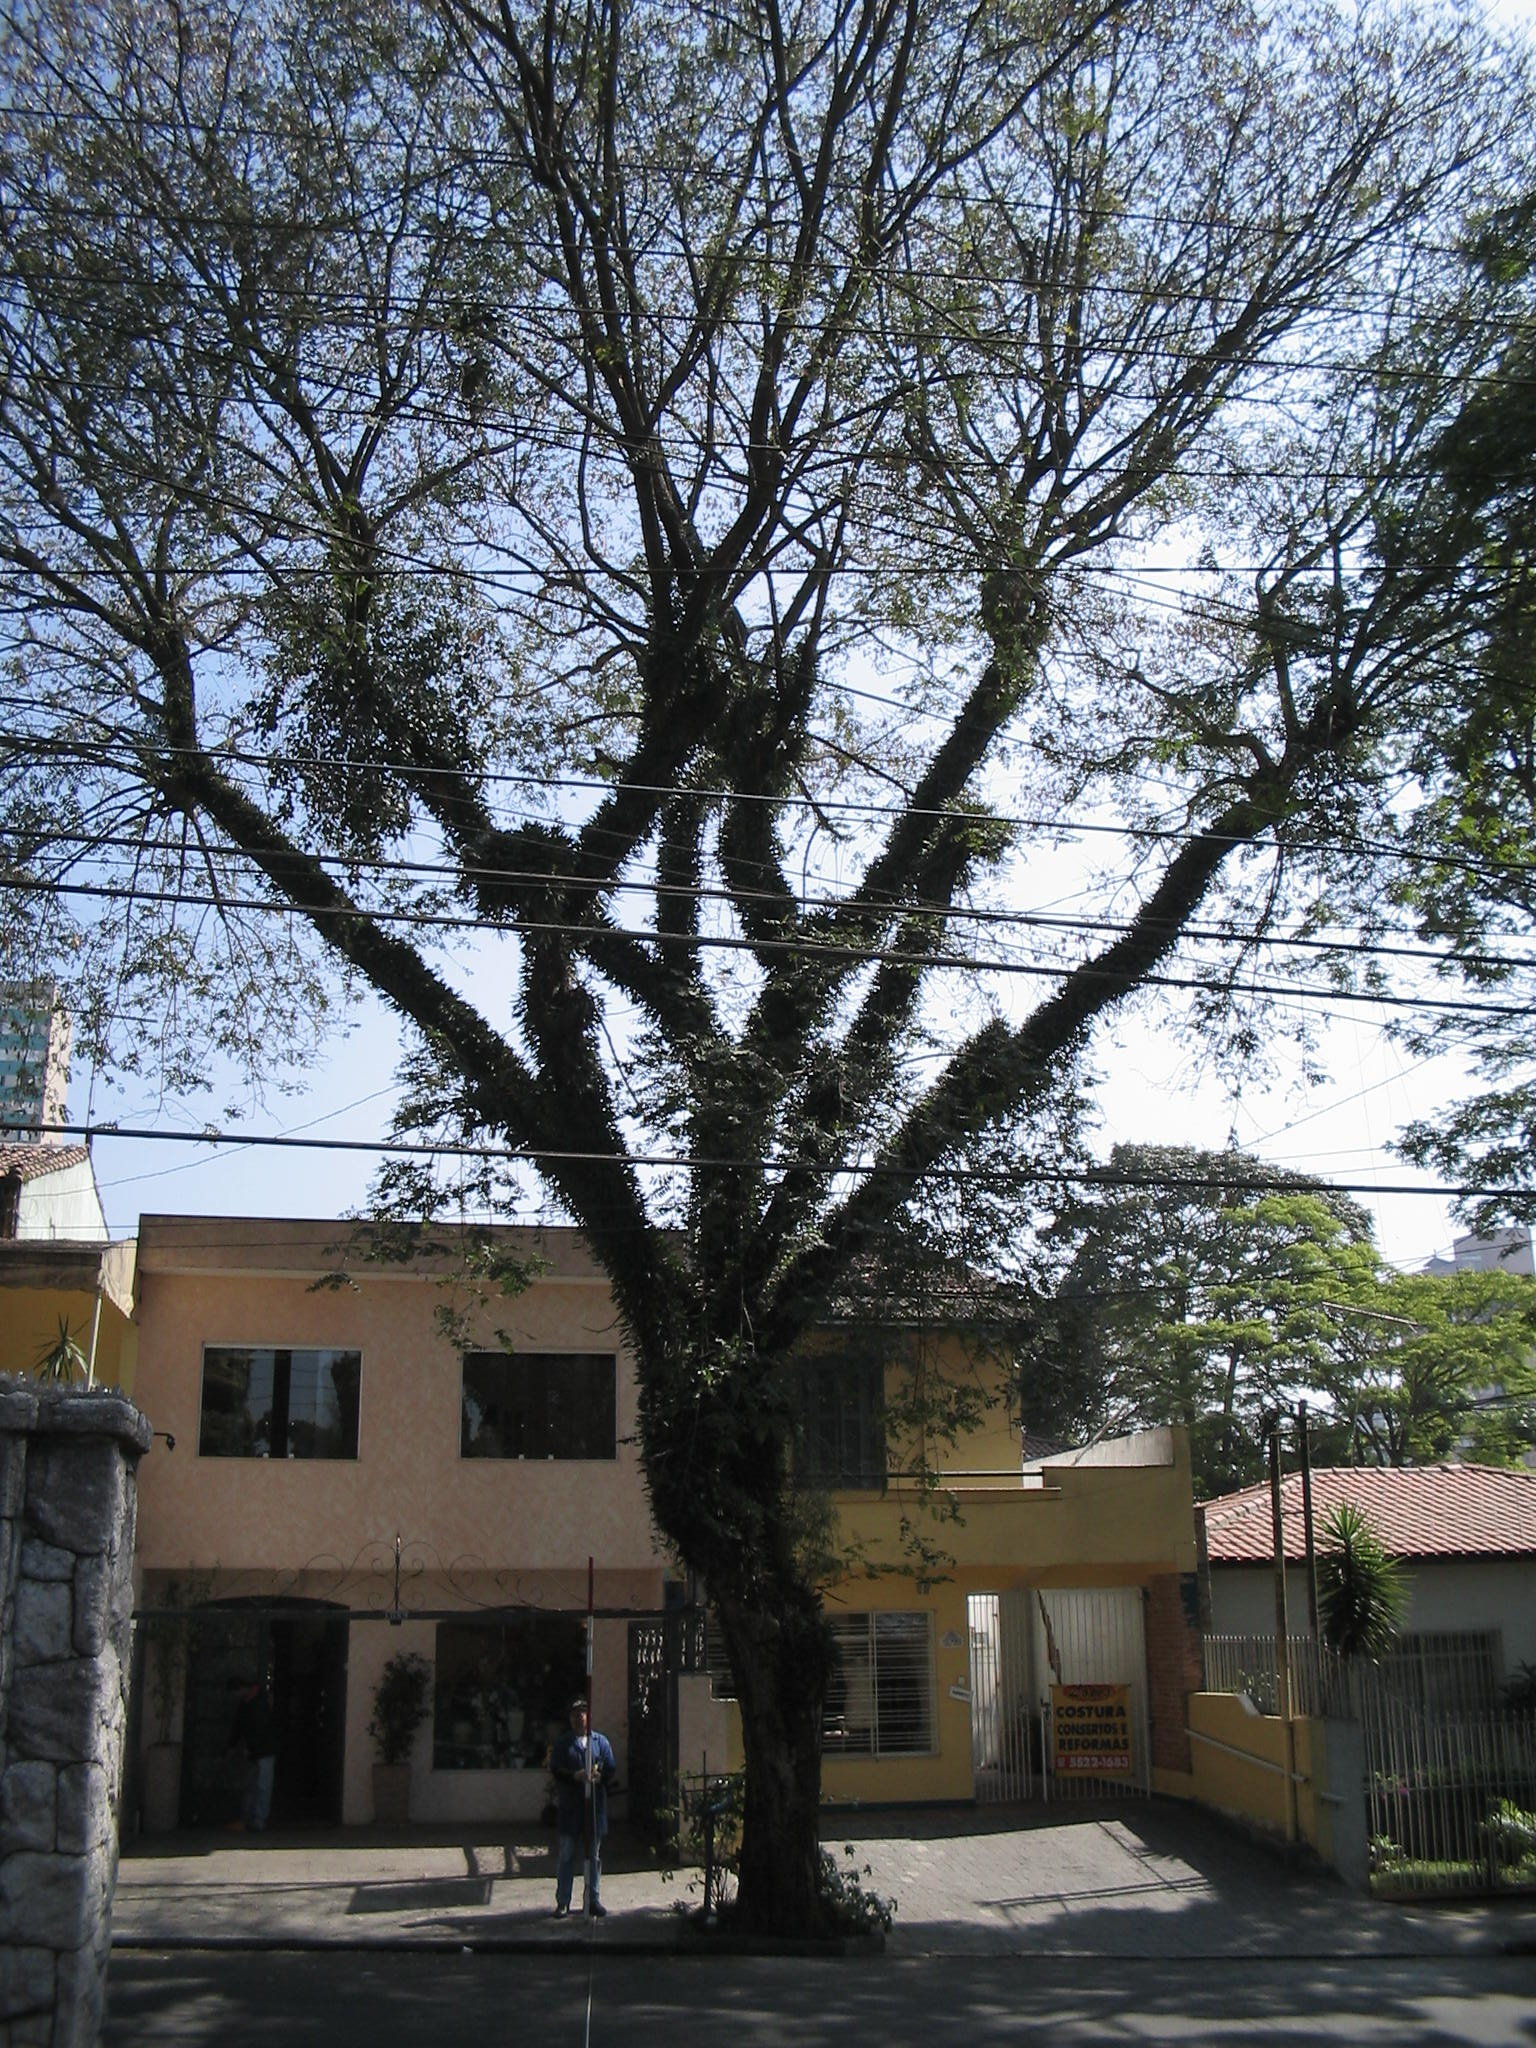stem: (610, 1387, 902, 1934)
stick: (545, 1558, 632, 1921)
tree: (3, 3, 1528, 1940)
